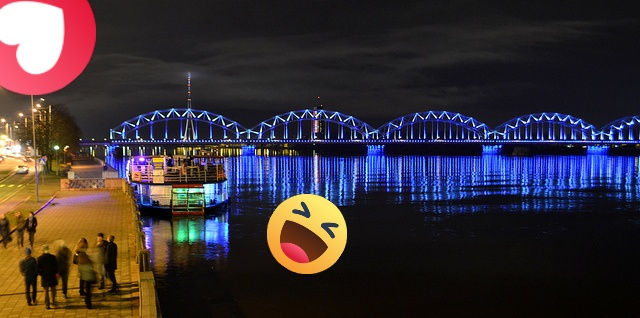haha: (267, 194, 347, 274)
love: (0, 0, 96, 95)
